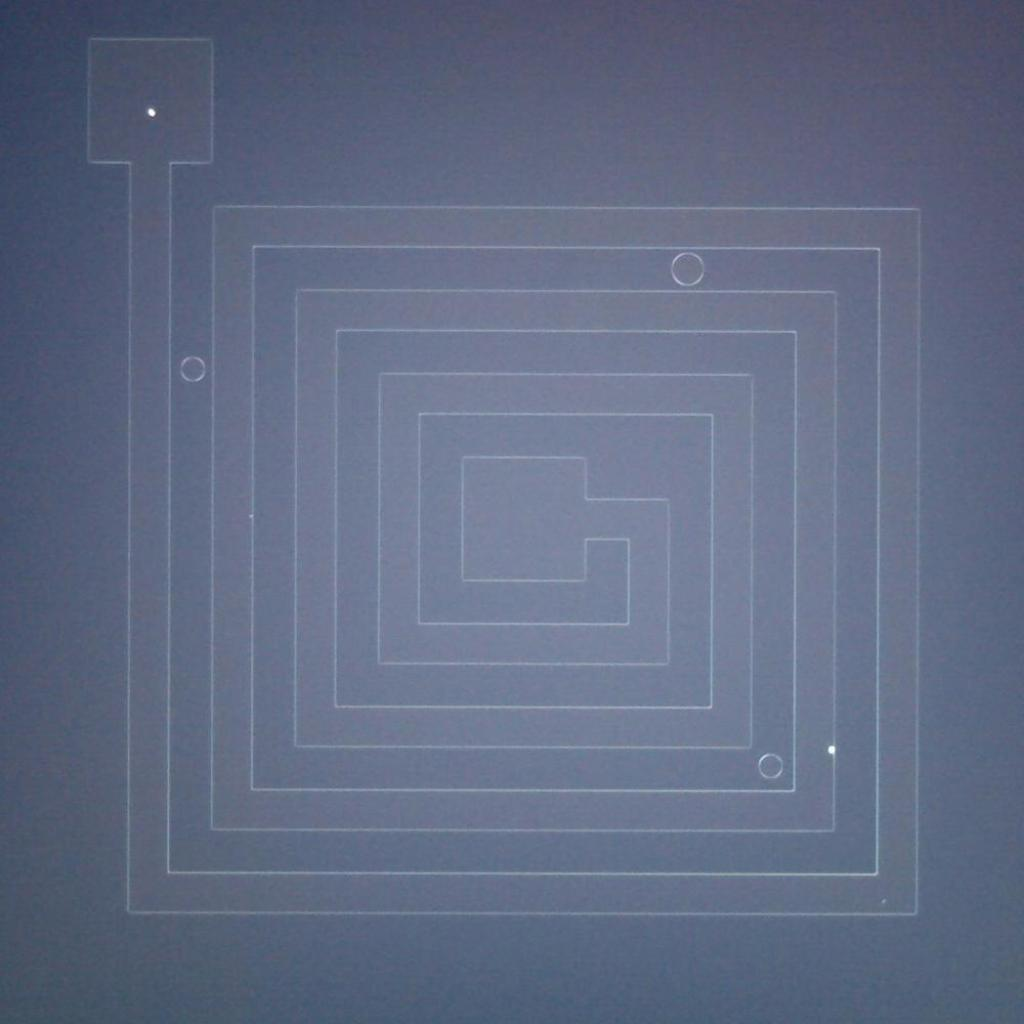dot: (826, 746, 836, 754), (148, 109, 156, 117), (882, 898, 886, 904), (250, 514, 254, 518)
